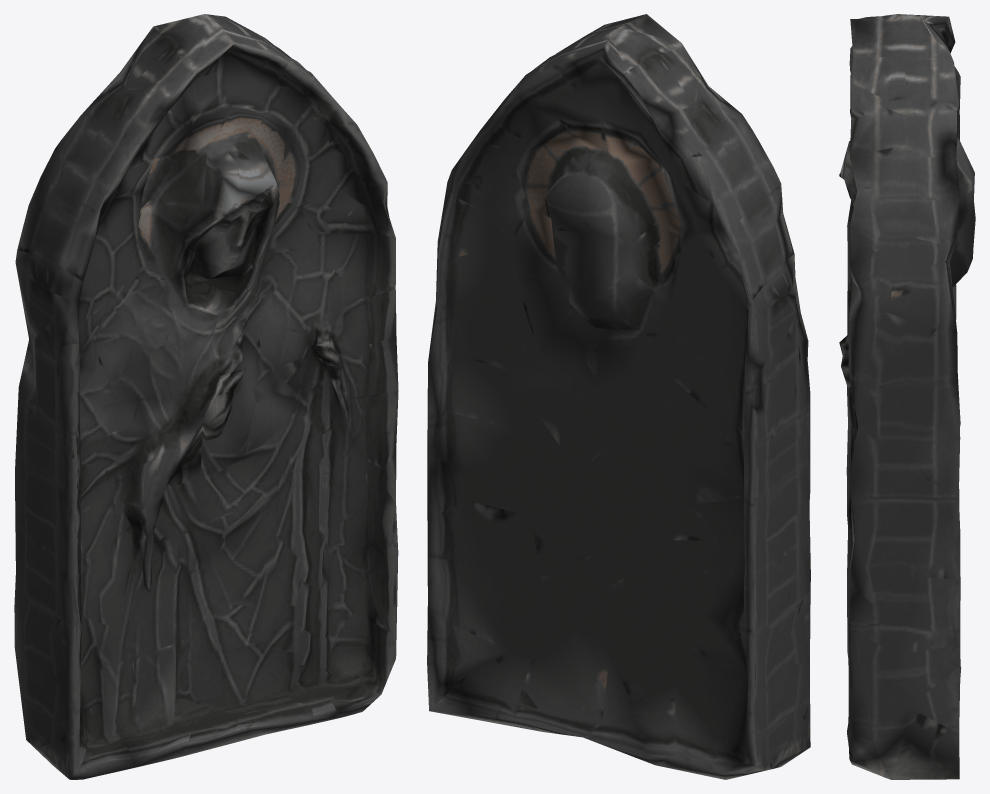
File: stained_glass_window.glb
3 views of the same model, side by side, from view 1: azimuth 30°, elevation 25°; view 2: azimuth 150°, elevation 25°; view 3: azimuth 270°, elevation 25° (orthographic). The views are drawn at different scales.
Size of the model in its own units: 0.9857 by 2 by 0.359.
1 material, 1 textured.
